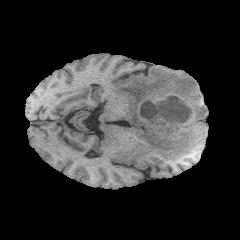glioma: (119, 67, 208, 159)
